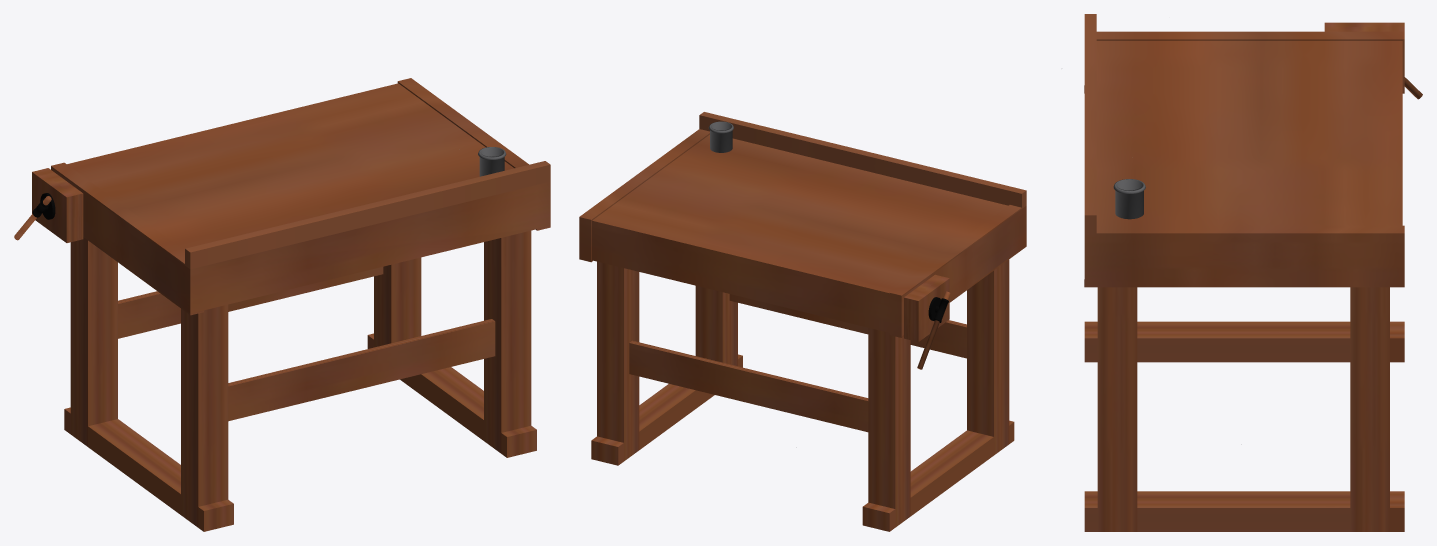
File: Werkbank.fbx
3 views of the same model, side by side, from view 1: azimuth 30°, elevation 25°; view 2: azimuth 150°, elevation 25°; view 3: azimuth 270°, elevation 25° (orthographic). The views are drawn at different scales.
Parts seen in each view (by area): view 1: Werkbank, Cube.004, Pinselbecher; view 2: Werkbank, Cube.004, Pinselbecher, Cylinder.139; view 3: Werkbank, Pinselbecher, Cube.004.
Part boxes in pixels (box(x1,y1,x2,y2)): Werkbank: box(51, 78, 550, 531); Cube.004: box(32, 168, 83, 242); Pinselbecher: box(478, 147, 506, 176); Werkbank: box(579, 112, 1026, 531); Cube.004: box(904, 274, 949, 341); Pinselbecher: box(708, 121, 733, 152); Cylinder.139: box(917, 291, 950, 369); Werkbank: box(1084, 14, 1404, 531); Pinselbecher: box(1113, 179, 1145, 219); Cube.004: box(1324, 22, 1404, 31).
Size of the model in its own units: 130 by 135 by 92.56.
